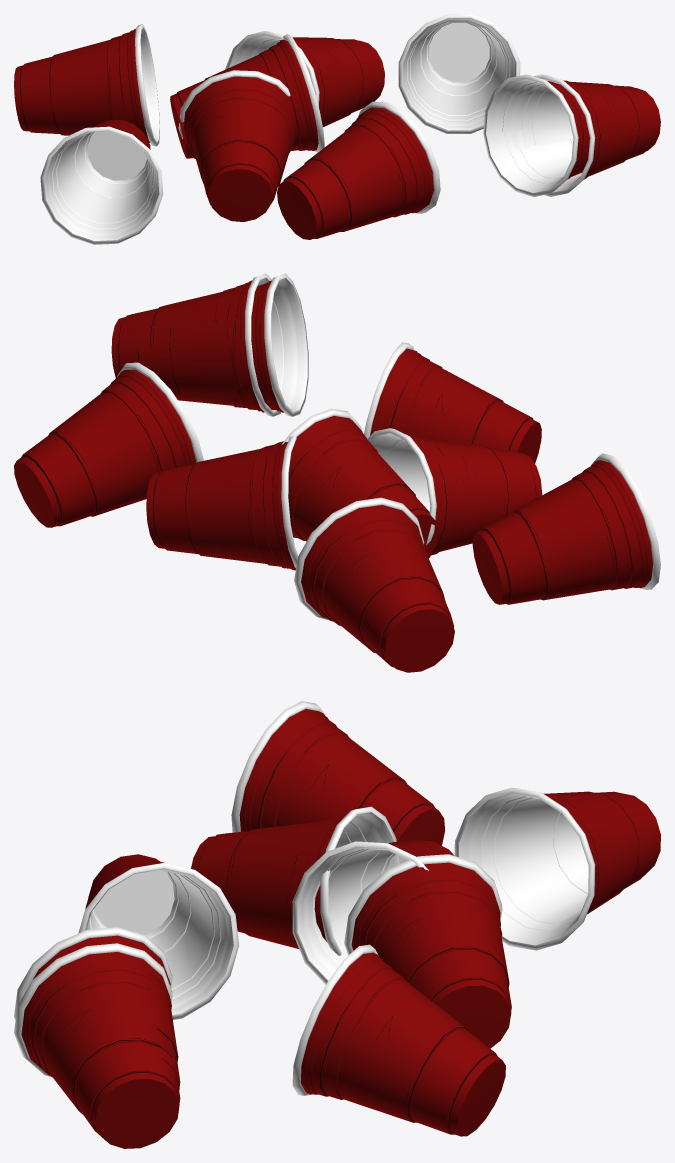
Rendered from reccupfill2.glb.
The picture shows the model from 3 angles, top to bottom: view 1: azimuth 30°, elevation 25°; view 2: azimuth 150°, elevation 25°; view 3: azimuth 270°, elevation 25°; orthographic projection. The views are drawn at different scales.
Size of the model in its own units: 0.8756 by 0.1917 by 0.6806.
Materials: 4 (2 with a texture image).
